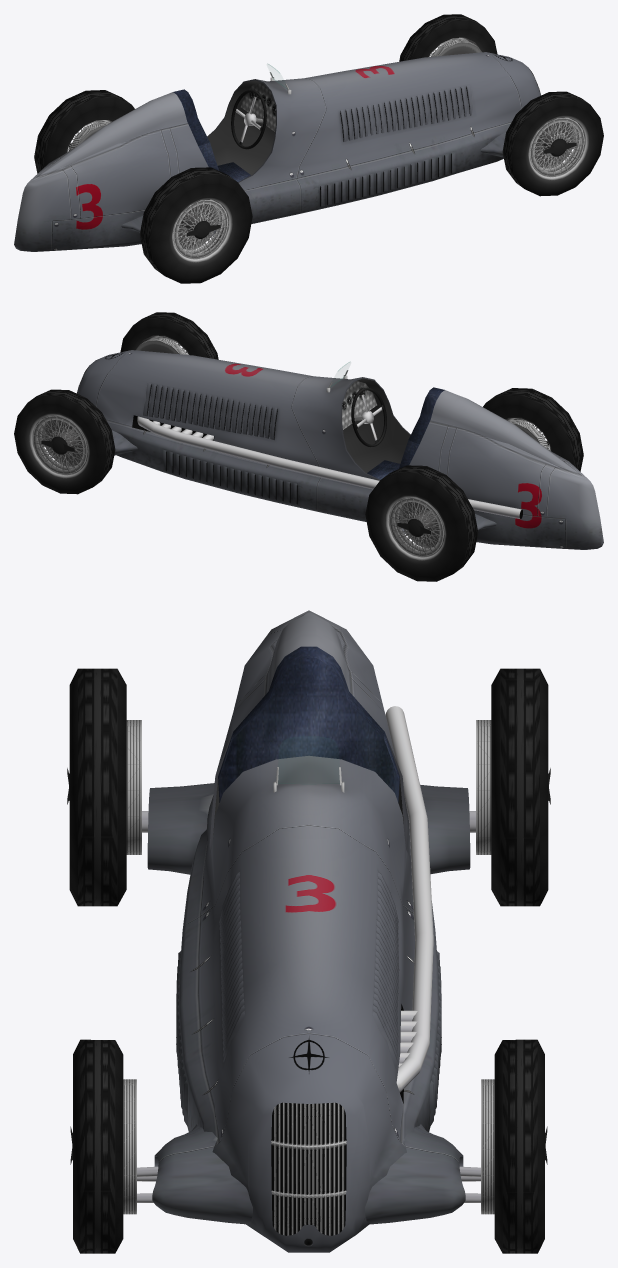
File: sd-36gp-silber-w25b.glb
3 renders of one model, top to bottom at view 1: azimuth 30°, elevation 25°; view 2: azimuth 150°, elevation 25°; view 3: azimuth 270°, elevation 25°, orthographic. The views are drawn at different scales.
Parts seen in each view (by area): view 1: paint_0, Tire_RearRight_15, Tire_FrontRight_11, Tire_RearLeft_13, gp_cabin_INTERIOR_s_0_4, Rim_FrontRight_10, Rim_RearRight_14, Tire_FrontLeft_9, detail_1, gp_instrument_DASH_s_0_3, Rim_FrontLeft_8, gp_steering_OBJECT_s_0_7 (+1 smaller); view 2: paint_0, Tire_RearLeft_13, detail_1, Tire_FrontLeft_9, Tire_RearRight_15, gp_cabin_INTERIOR_s_0_4, Rim_RearLeft_12, Rim_FrontLeft_8, Tire_FrontRight_11, gp_instrument_DASH_s_0_3, Rim_FrontRight_10, gp_steering_OBJECT_s_0_7 (+1 smaller); view 3: paint_0, detail_1, Tire_RearLeft_13, Tire_RearRight_15, Tire_FrontLeft_9, Tire_FrontRight_11, Rim_RearLeft_12, Rim_RearRight_14, Rim_FrontLeft_8, Rim_FrontRight_10.
Part boxes in pixels (x1,y1,x2,y2): paint_0: (14,52,540,251); Tire_RearRight_15: (139,167,252,283); Tire_FrontRight_11: (502,91,603,196); Tire_RearLeft_13: (34,90,134,173); gp_cabin_INTERIOR_s_0_4: (207,80,274,175); Rim_FrontRight_10: (529,117,584,175); Rim_RearRight_14: (173,199,228,257); Tire_FrontLeft_9: (399,14,497,61); detail_1: (121,69,540,239); gp_instrument_DASH_s_0_3: (241,83,275,131); Rim_FrontLeft_8: (429,37,481,56); gp_steering_OBJECT_s_0_7: (231,90,266,149); paint_0: (77,350,603,549); Tire_RearLeft_13: (365,465,478,581); detail_1: (77,367,522,538); Tire_FrontLeft_9: (14,389,115,494); Tire_RearRight_15: (483,388,583,471); gp_cabin_INTERIOR_s_0_4: (343,378,410,473); Rim_RearLeft_12: (389,498,444,555); Rim_FrontLeft_8: (32,416,87,473); Tire_FrontRight_11: (120,312,218,359); gp_instrument_DASH_s_0_3: (342,381,376,429); Rim_FrontRight_10: (136,335,188,354); gp_steering_OBJECT_s_0_7: (351,387,386,447); paint_0: (176,610,441,1252); detail_1: (137,646,480,1235); Tire_RearLeft_13: (491,668,548,906); Tire_RearRight_15: (69,668,126,906); Tire_FrontLeft_9: (494,1039,544,1253); Tire_FrontRight_11: (73,1039,123,1253); Rim_RearLeft_12: (476,720,550,854); Rim_RearRight_14: (67,720,141,854); Rim_FrontLeft_8: (481,1079,547,1214); Rim_FrontRight_10: (70,1079,136,1214).
Bounding box in the file's own units: 4.38 × 1.12 × 1.72.
5 materials, 5 textured.
